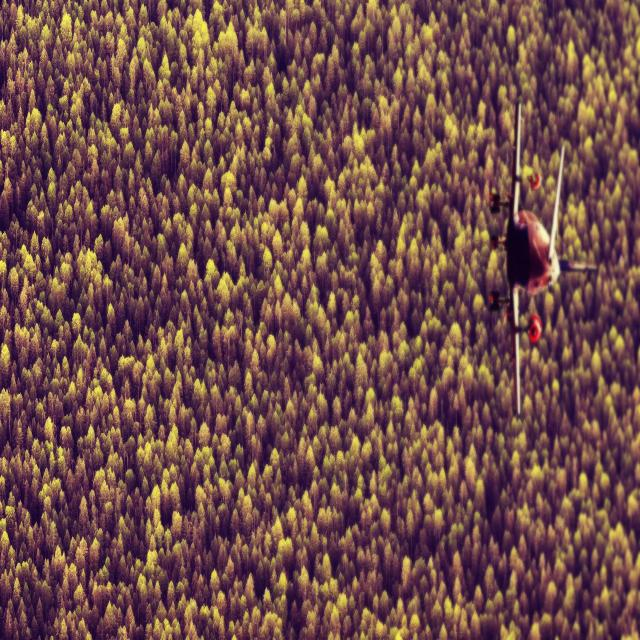airplane: (487, 101, 598, 415)
